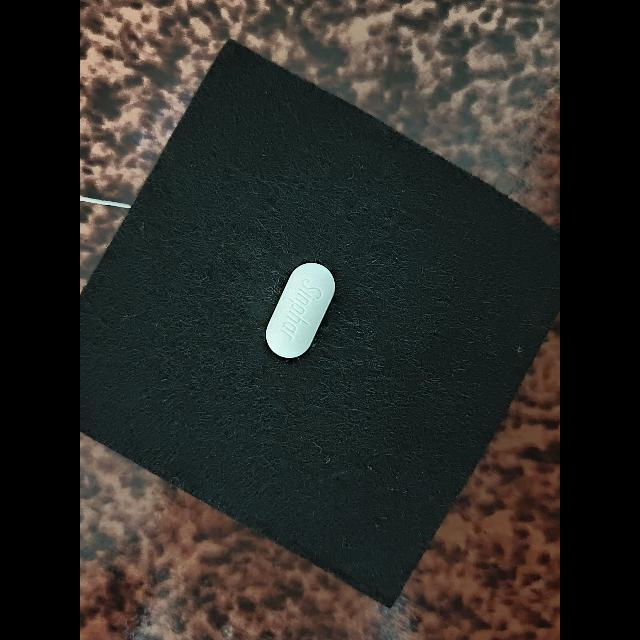Intact Pill: (265, 262, 335, 358)
